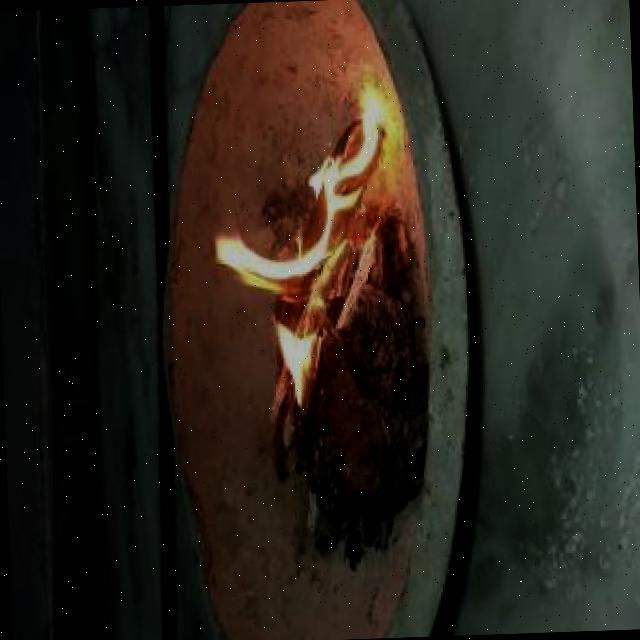fire: (206, 96, 386, 403)
